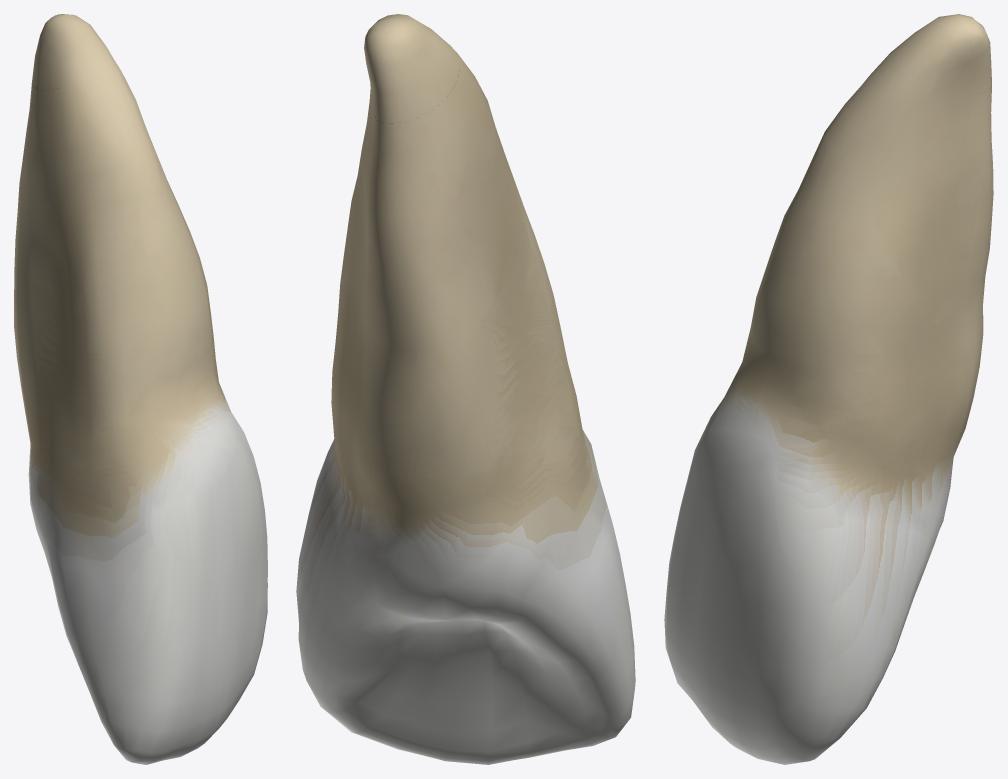
File: tooth-22.glb
3 views of the same model, side by side, from view 1: azimuth 30°, elevation 25°; view 2: azimuth 150°, elevation 25°; view 3: azimuth 270°, elevation 25° (orthographic). The views are drawn at different scales.
Parts seen in each view (by area): view 1: ZBrushPolyMesh3D1_blinn14_0; view 2: ZBrushPolyMesh3D1_blinn14_0; view 3: ZBrushPolyMesh3D1_blinn14_0.
Part boxes in pixels (left/top/right/bottom): ZBrushPolyMesh3D1_blinn14_0: left=14, top=14, right=267, bottom=764; ZBrushPolyMesh3D1_blinn14_0: left=296, top=14, right=635, bottom=764; ZBrushPolyMesh3D1_blinn14_0: left=664, top=14, right=993, bottom=764.
Size of the model in its own units: 0.2406 by 0.7121 by 0.2951.
1 material, 1 textured.
